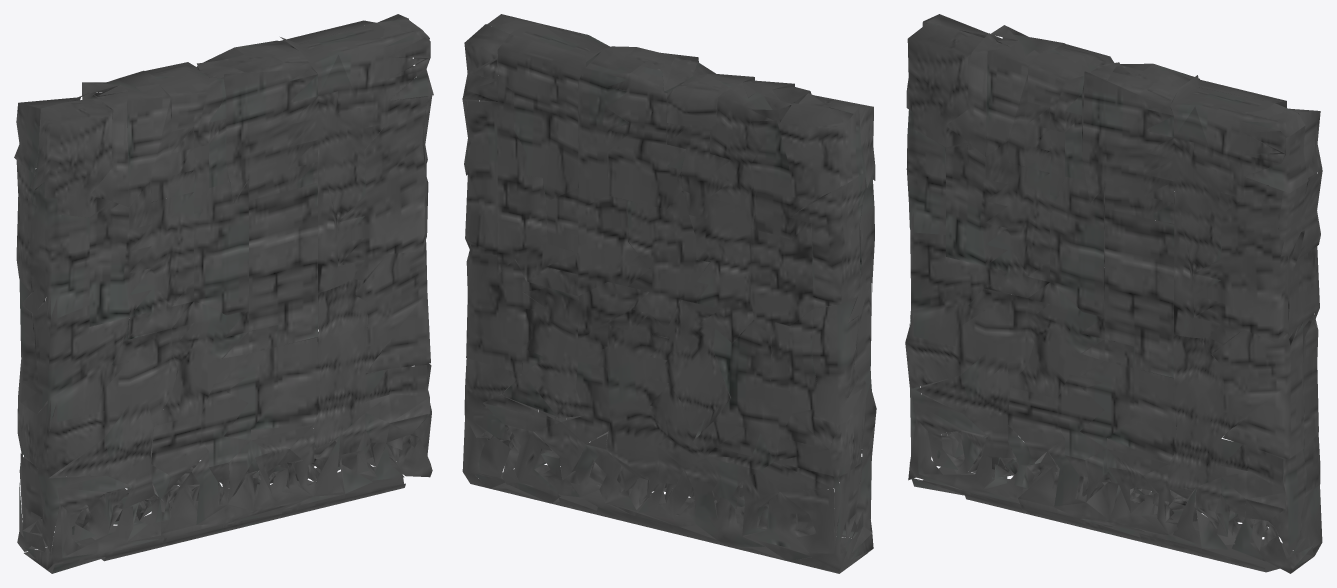
File: dungeon long tall wall.glb
3 renders of one model, left to right at view 1: azimuth 30°, elevation 25°; view 2: azimuth 150°, elevation 25°; view 3: azimuth 330°, elevation 25°, orthographic.
Parts seen in each view (by area): view 1: Mesh_0; view 2: Mesh_0; view 3: Mesh_0.
Boxes of the visible parts, left/top/right/bottom form: Mesh_0: left=14, top=14, right=433, bottom=573; Mesh_0: left=462, top=14, right=876, bottom=573; Mesh_0: left=905, top=14, right=1322, bottom=573.
Bounding box in the file's own units: 0.615 × 0.6902 × 0.1138.
Materials: 1 (1 with a texture image).
